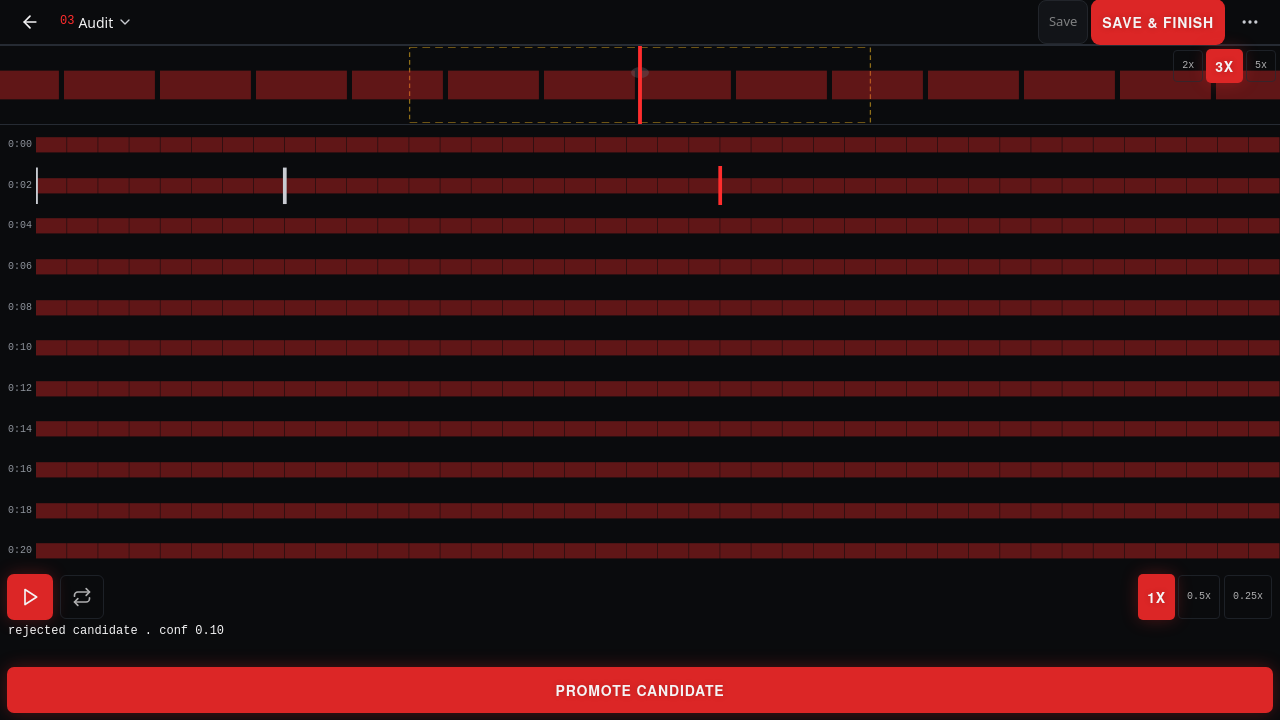
Test: MobileAudit › a 409 followed by a failed reload shows an error and preserves dirty edits
The width and height of the screenshot is (1280, 720).
Click the button "Promote candidate". click: x=640, y=690
box: [8,668,1272,712]
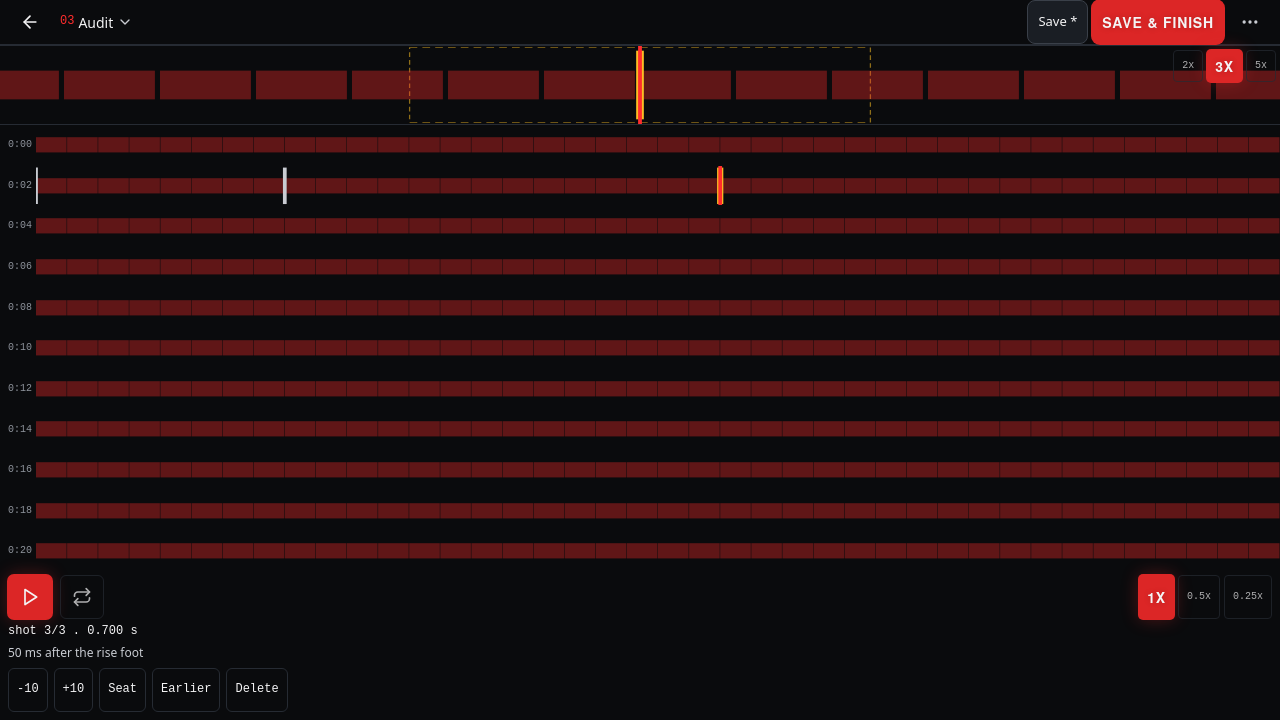
Click the button "Save *". click: x=1058, y=22
box: [1027,0,1088,44]
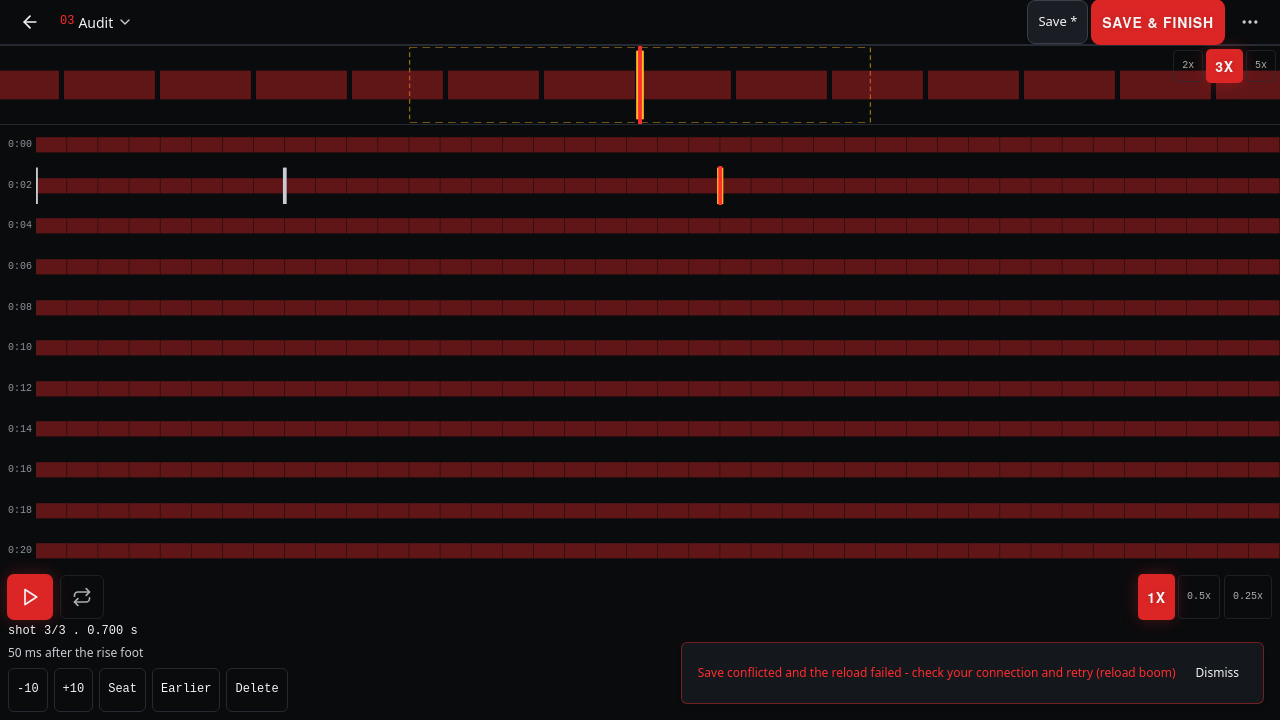
expect the button "Save *" is enabled: met, box [1027,0,1088,44]
expect the button "Save *" is shown: met, box [1027,0,1088,44]
expect the text "reload failed" is shown: met, box [698,664,1176,681]
